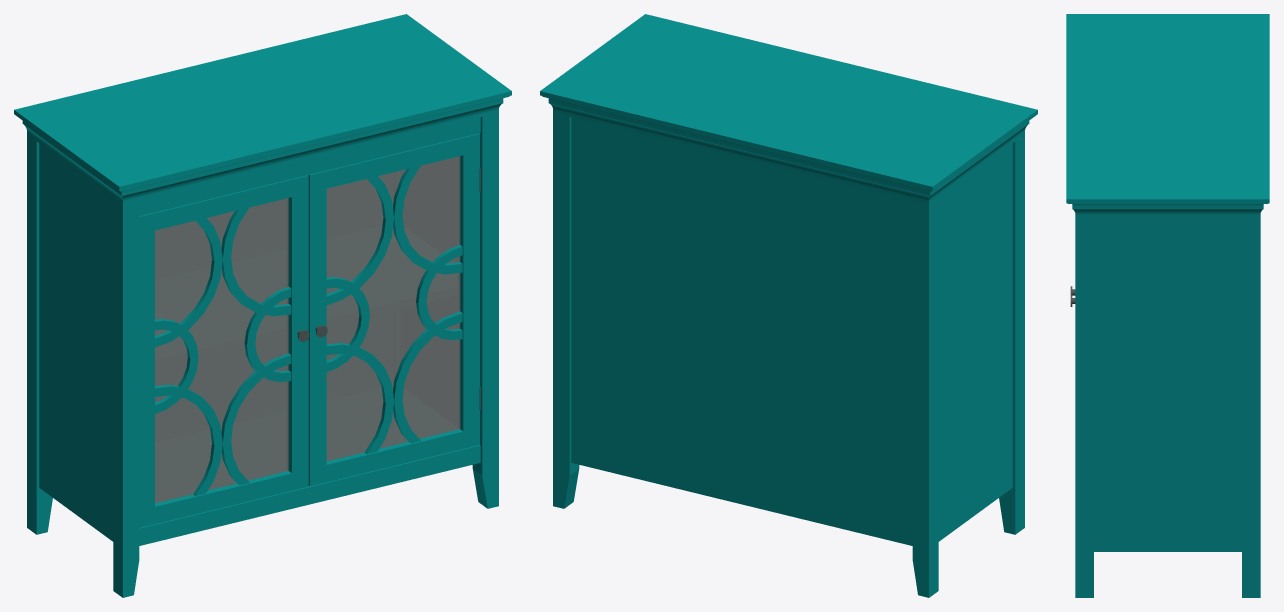
Rendered from Side-Table-Textured(1).dae.
The picture shows the model from 3 angles, left to right: view 1: azimuth 30°, elevation 25°; view 2: azimuth 150°, elevation 25°; view 3: azimuth 270°, elevation 25°; orthographic projection. The views are drawn at different scales.
Visible parts, largest first — view 1: Door (×4), Door_Frame (×6), Top (×2), Body (×3), Leg (×3); view 2: Body (×2), Top (×2), Leg (×3); view 3: Body, Top (×2), Leg (×2).
Part boxes in pixels (x1=…): Door (×4): x1=155, y1=156, x2=460, y2=503; Door_Frame (×6): x1=139, y1=133, x2=479, y2=527; Top (×2): x1=14, y1=14, x2=511, y2=204; Body (×3): x1=39, y1=117, x2=480, y2=545; Leg (×3): x1=27, y1=113, x2=498, y2=597; Body (×2): x1=571, y1=117, x2=1012, y2=545; Top (×2): x1=540, y1=14, x2=1037, y2=204; Leg (×3): x1=553, y1=113, x2=1024, y2=597; Body: x1=1094, y1=217, x2=1241, y2=551; Top (×2): x1=1066, y1=14, x2=1269, y2=217; Leg (×2): x1=1075, y1=217, x2=1260, y2=597.
Bounding box in the file's own units: 35.5 × 16.5 × 36.
